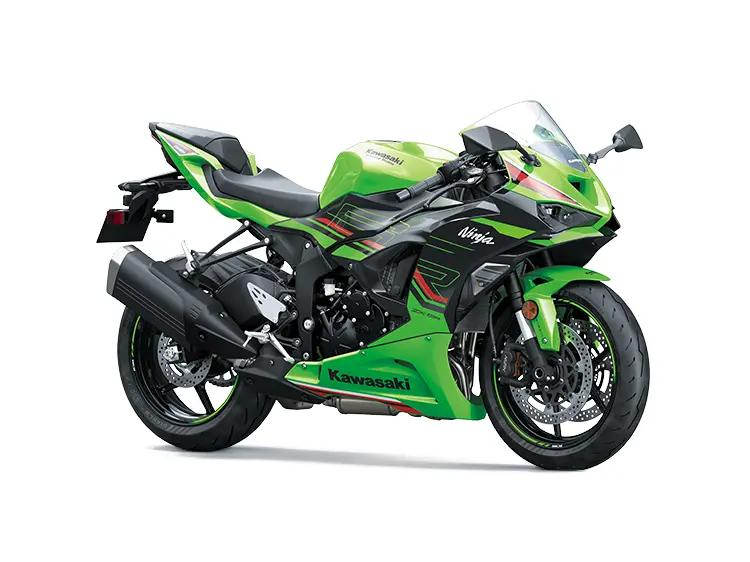motorcycle: (84, 96, 679, 474)
